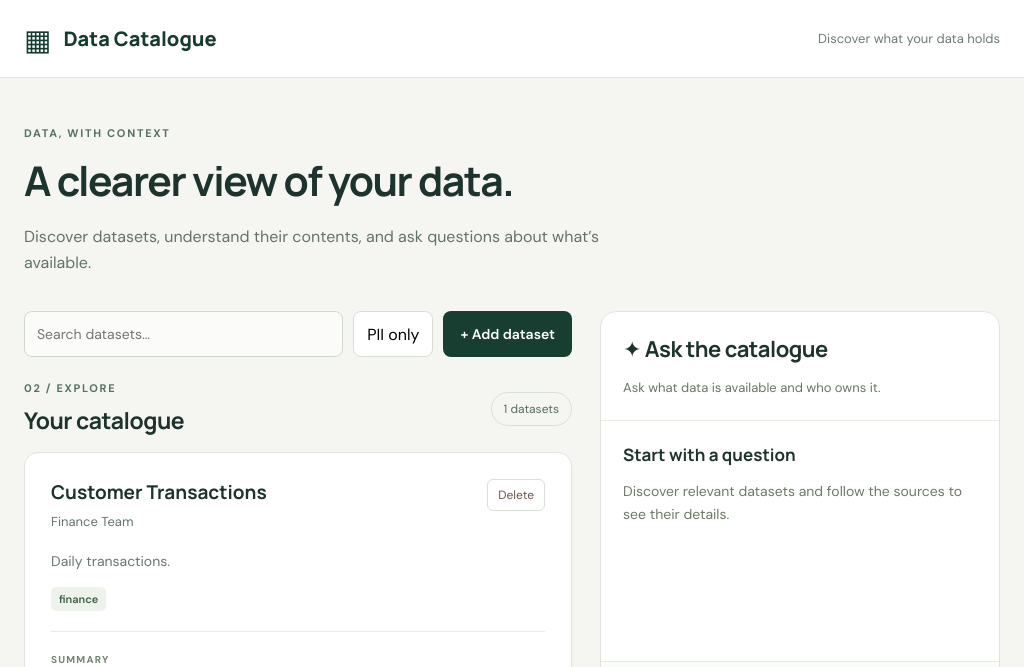
Test: Catalogue user journeys › shows seed data and validates empty inputs without making a request
Check: the heading "Customer Transactions" is shown, box [51,479,267,505]
Click the button "+ Add dataset" at {"x": 508, "y": 334}, box [443,311,572,357]
(page scrolled)
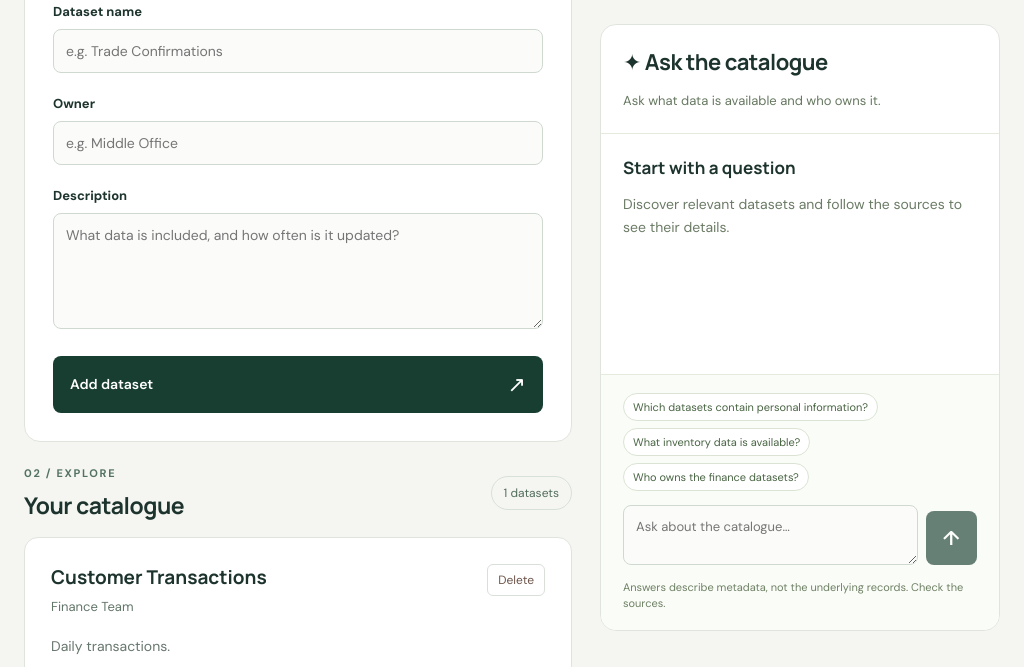
Click the button "Add dataset ↗" at {"x": 112, "y": 384}, box [53,356,543,413]
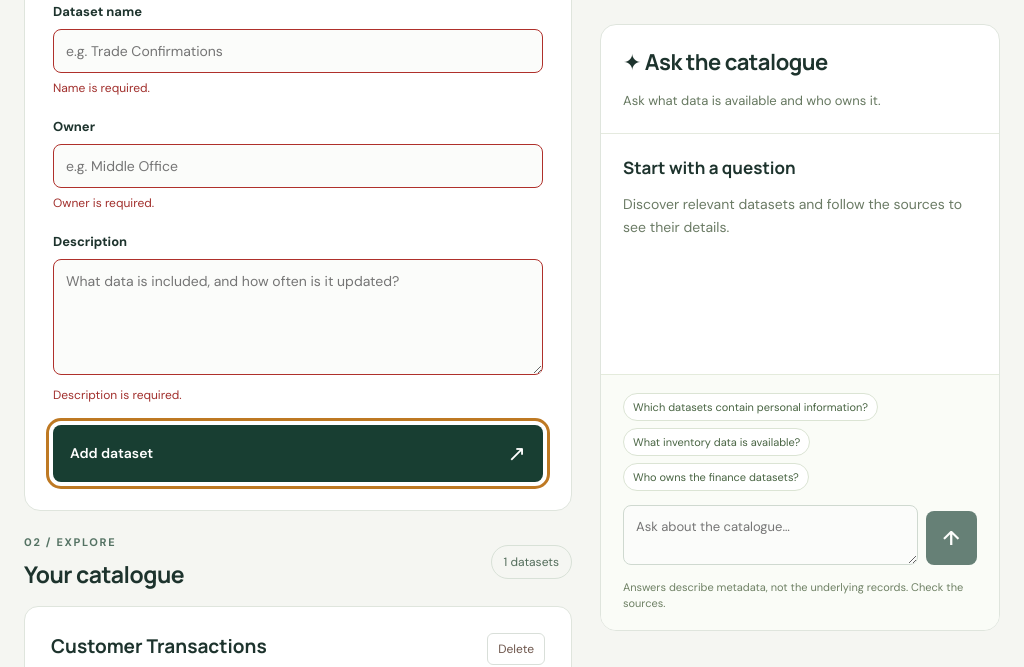
Check: the text "Name is required." is shown, box [53,80,150,96]
Check: the text "Description is required." is shown, box [53,387,182,403]
